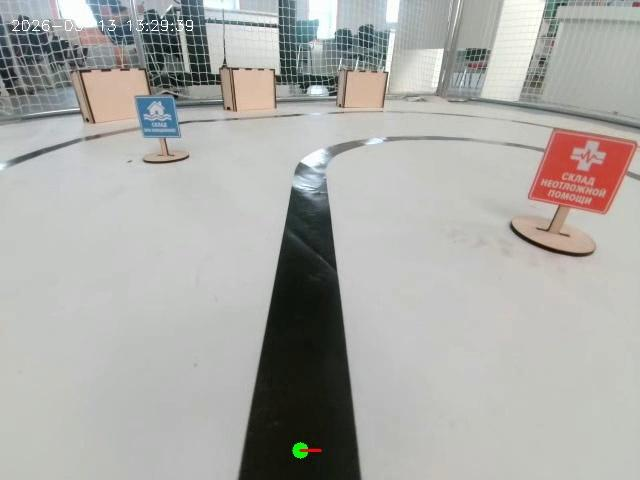flood: (110, 84, 210, 176)
medical: (470, 96, 640, 270)
